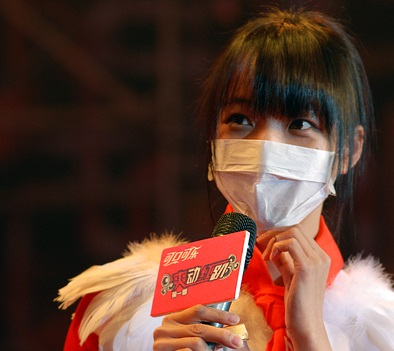face_mask: (209, 61, 335, 227)
